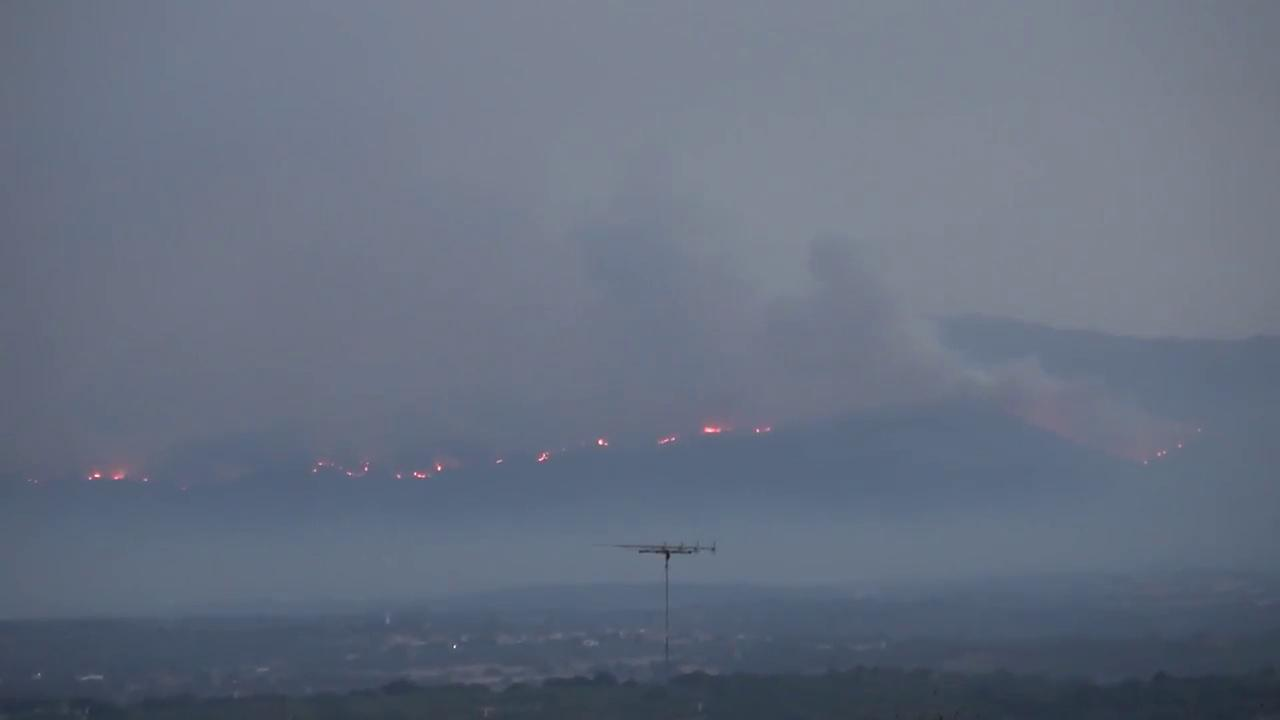Fire: (703, 422, 728, 437), (86, 470, 106, 484), (662, 434, 682, 448), (537, 449, 554, 464), (412, 469, 429, 481), (111, 473, 125, 482), (435, 461, 445, 473), (597, 439, 612, 447)
